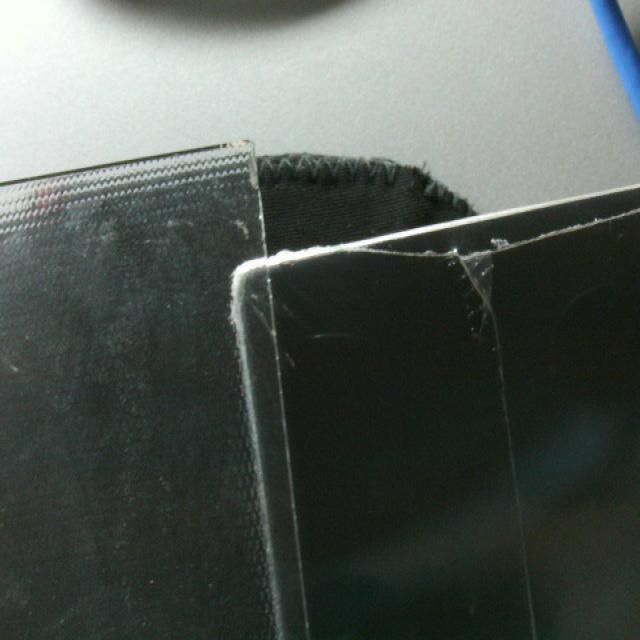edge_chip: (219, 125, 269, 212)
